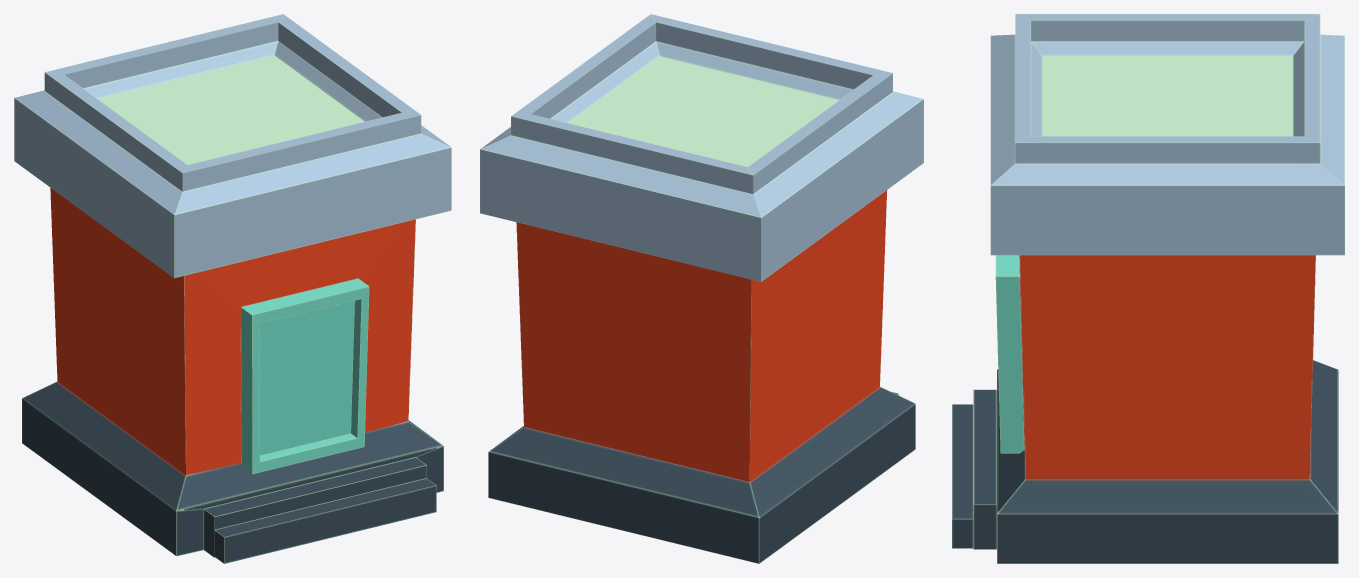
File: small house.fbx
3 views of the same model, side by side, from view 1: azimuth 30°, elevation 25°; view 2: azimuth 150°, elevation 25°; view 3: azimuth 270°, elevation 25° (orthographic). The views are drawn at different scales.
Parts seen in each view (by area): view 1: small_house; view 2: small_house; view 3: small_house.
Boxes of the visible parts, x1,y1,x2,y2 form: small_house: (14,14,451,563); small_house: (480,14,923,563); small_house: (952,14,1344,563).
Bounding box in the file's own units: 5.72 × 7.37 × 6.34.
1 material, 1 textured.
